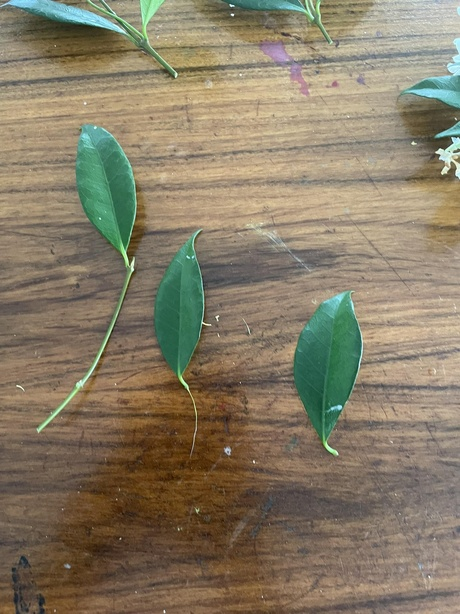leaf: (289, 278, 369, 462), (153, 220, 210, 390), (71, 121, 138, 257)
